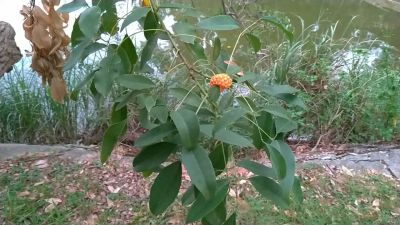eggs: (208, 69, 234, 91)
